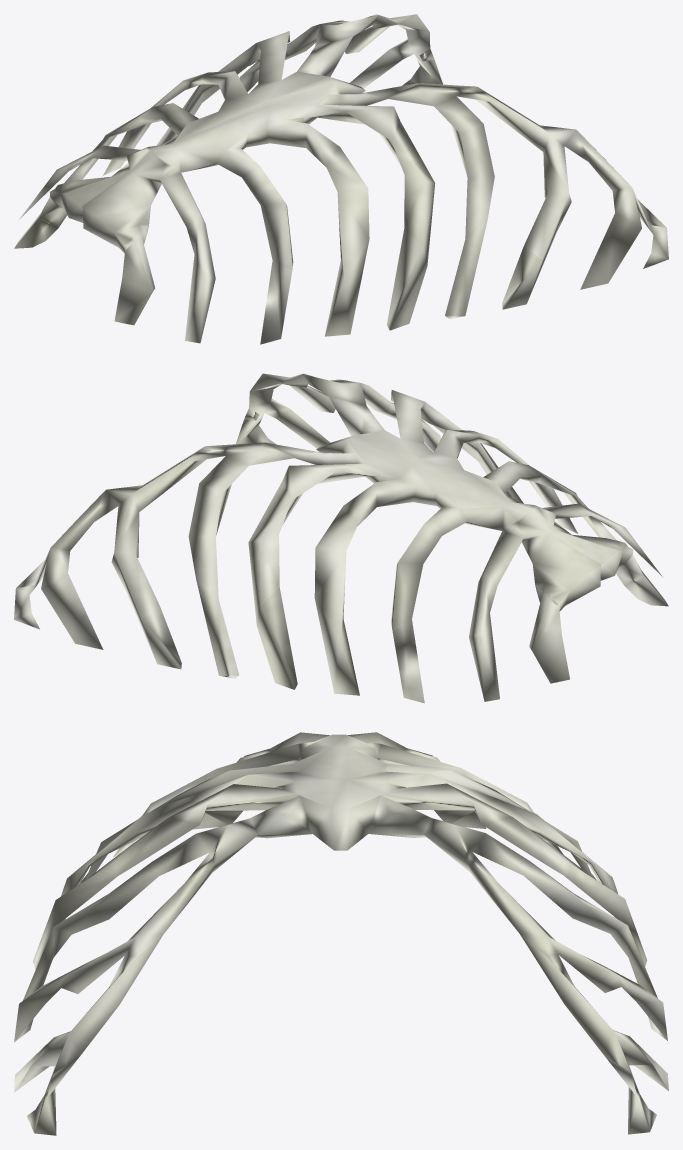
Rendered from TCA_ChestPlate.fbx.
3 renders of one model, top to bottom at view 1: azimuth 30°, elevation 25°; view 2: azimuth 150°, elevation 25°; view 3: azimuth 270°, elevation 25°, orthographic. The views are drawn at different scales.
Parts seen in each view (by area): view 1: ChestPlate; view 2: ChestPlate; view 3: ChestPlate.
Boxes of the visible parts, left/top/right/bottom form: ChestPlate: left=14, top=14, right=668, bottom=344; ChestPlate: left=14, top=373, right=668, bottom=703; ChestPlate: left=14, top=732, right=668, bottom=1135.
Size of the model in its own units: 0.4967 by 0.1526 by 0.443.
